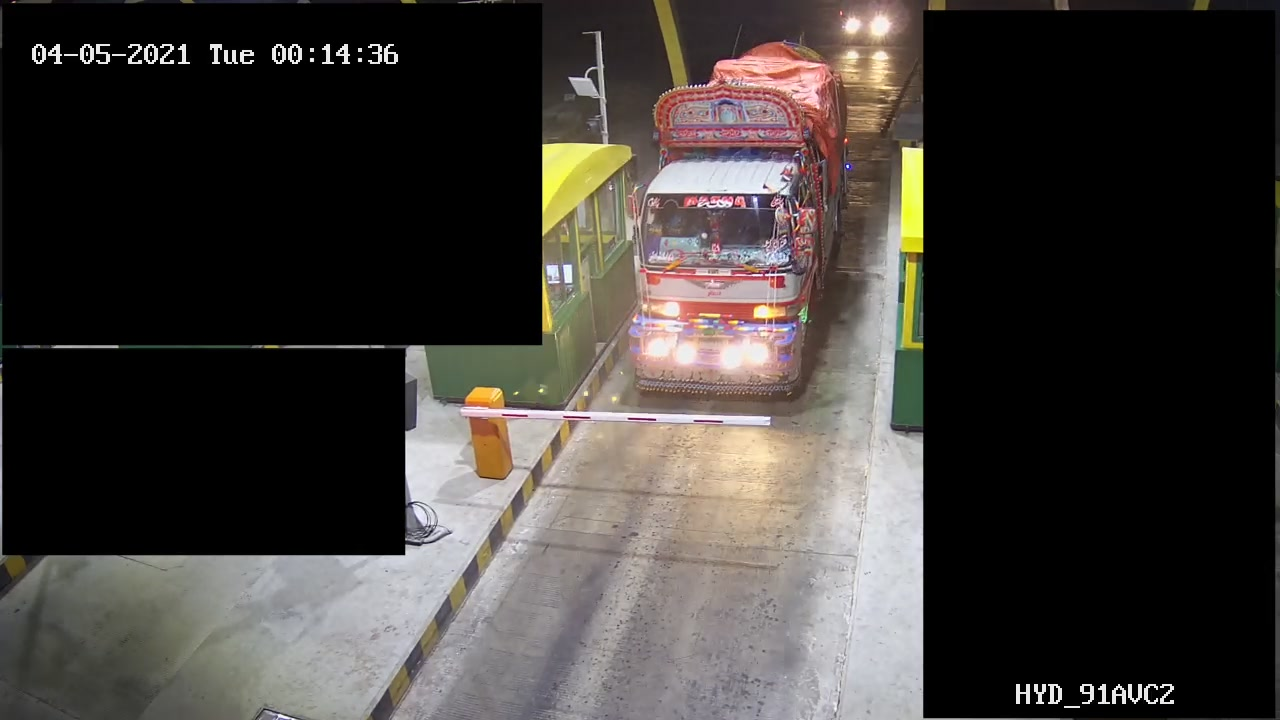F5: (621, 41, 863, 397)
